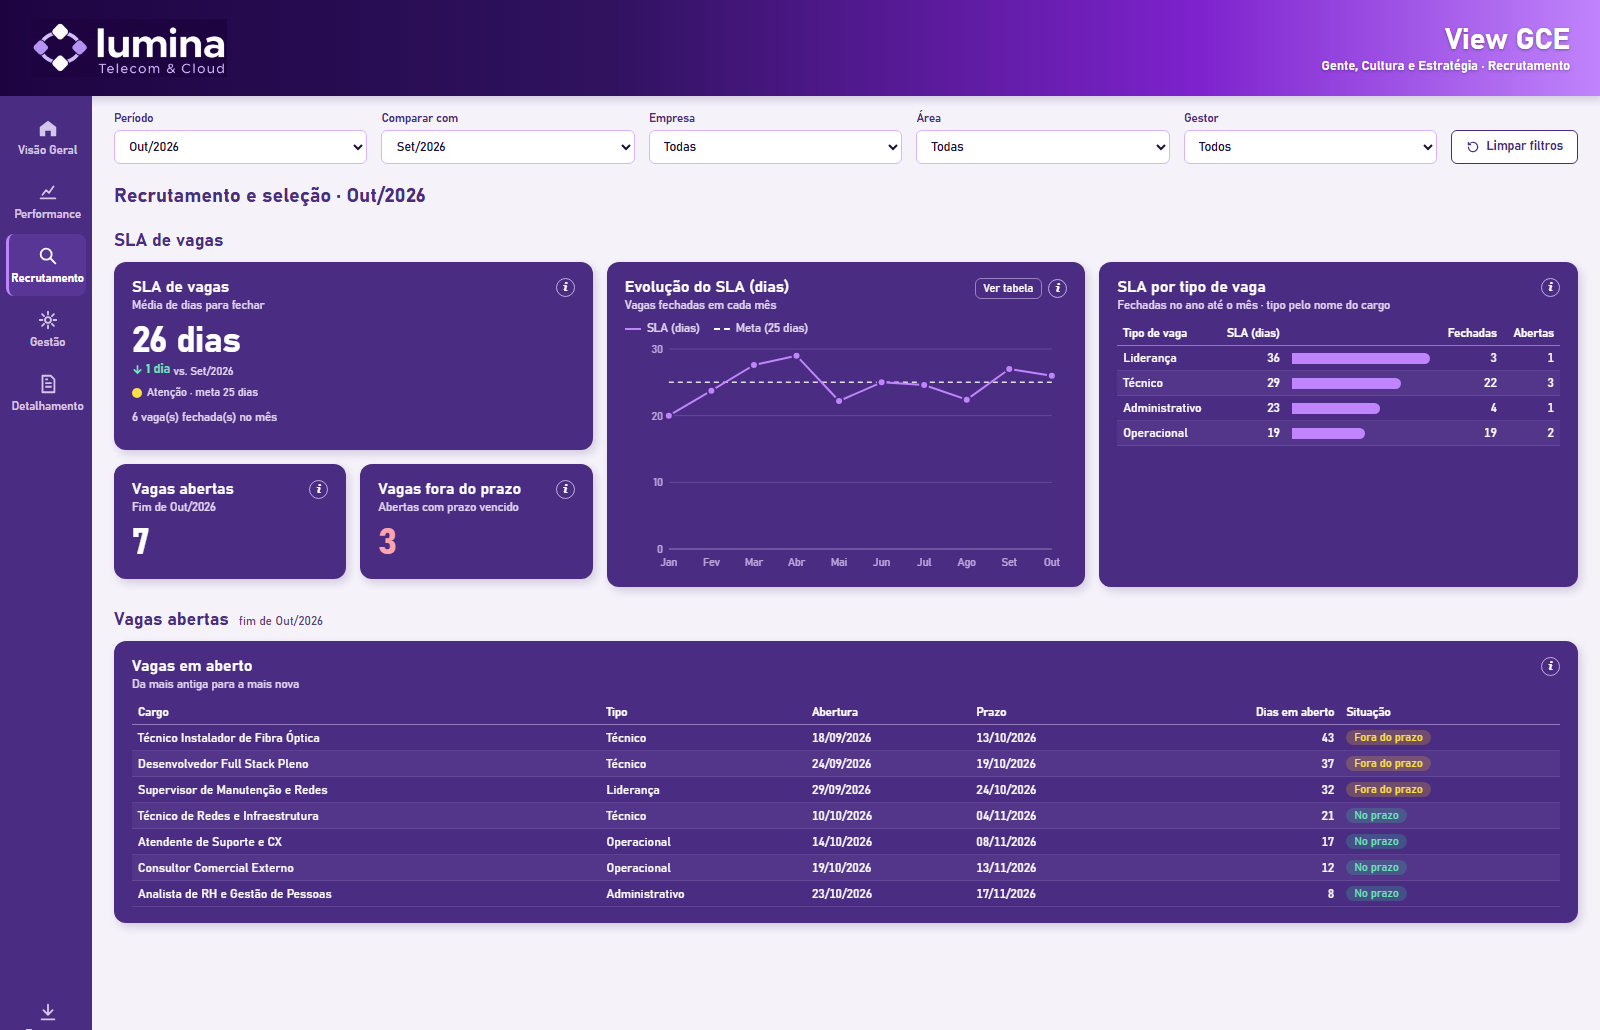

What the dashboard file says about the page in this screenshot:
{"tool":"powerbi","page":{"name":"Recrutamento","canvas":[1600,956],"ordinal":2},"visuals":[{"type":"image","box":[0,0,1606,112],"z":0},{"type":"textbox","box":[1060,22,532,68],"z":1000},{"type":"card","fields":{"Values":["_Medidas.Vagas abertas no fim do mês"]},"box":[475,238,223,72],"z":2000},{"type":"tableEx","title":"Vagas em aberto no fim do mês (da mais antiga para a mais nova)","fields":{"Values":["Vaga.cargo","Vaga.tipo_vaga","Vaga.data_abertura","Vaga.data_prazo","_Medidas.Vaga dias em aberto","_Medidas.Vaga situação (texto)"]},"box":[10,608,1580,332],"z":3000},{"type":"tableEx","title":"SLA por tipo de vaga (no ano)","fields":{"Values":["Vaga.tipo_vaga","_Medidas.SLA vagas no ano (dias)","_Medidas.Vagas fechadas no ano","_Medidas.Vagas abertas no fim do mês"]},"box":[942,238,648,322],"z":4000},{"type":"card","fields":{"Values":["_Medidas.SLA vagas (card)"]},"box":[10,238,223,72],"z":5000},{"type":"lineChart","title":"Evolução do SLA (dias)","fields":{"Category":["Eixo Mes.mes_rotulo"],"Y":["_Medidas.Série SLA vagas (dias)","_Medidas.Série Meta"]},"box":[10,320,920,240],"z":6000},{"type":"card","fields":{"Values":["_Medidas.Vagas fechadas"]},"box":[243,238,223,72],"z":7000},{"type":"card","fields":{"Values":["_Medidas.Vagas fora do prazo"]},"box":[708,238,223,72],"z":8000},{"type":"textbox","box":[10,204.4,138.9,41.1],"z":10000},{"type":"textbox","box":[10,574,1580,30],"z":11000},{"type":"slicer","fields":{"Values":["Comparar com.Comparar com"]},"box":[330,113,310,81],"z":12000},{"type":"slicer","fields":{"Values":["Colaborador.empresa"]},"box":[647,113,310,81],"z":13000},{"type":"slicer","fields":{"Values":["Colaborador.gestor"]},"box":[1281,113,310,81],"z":14000},{"type":"slicer","fields":{"Values":["Colaborador.area"]},"box":[964,113,310,81],"z":15000},{"type":"slicer","fields":{"Values":["Calendario.mes_rotulo"]},"box":[13,113,310,81],"z":16000},{"type":"actionButton","box":[1560,246,22,22],"z":17000},{"type":"actionButton","box":[900,328,22,22],"z":18000},{"type":"actionButton","box":[1560,616,22,22],"z":19000}]}

Visuals, with their boxes on the page's 1600x956 design canvas (x1, y1, x2, y2). These are canvas units, not pixel positions in the 1600x1030 screenshot, which may show the page scaled, cropped or inside an application window:
image: x1=0 y1=0 x2=1606 y2=112
textbox: x1=1060 y1=22 x2=1592 y2=90
card - _Medidas.Vagas abertas no fim do mês: x1=475 y1=238 x2=698 y2=310
"Vagas em aberto no fim do mês (da mais antiga para a mais nova)" tableEx: x1=10 y1=608 x2=1590 y2=940
"SLA por tipo de vaga (no ano)" tableEx: x1=942 y1=238 x2=1590 y2=560
card - _Medidas.SLA vagas (card): x1=10 y1=238 x2=233 y2=310
"Evolução do SLA (dias)" lineChart: x1=10 y1=320 x2=930 y2=560
card - _Medidas.Vagas fechadas: x1=243 y1=238 x2=466 y2=310
card - _Medidas.Vagas fora do prazo: x1=708 y1=238 x2=931 y2=310
textbox: x1=10 y1=204 x2=149 y2=246
textbox: x1=10 y1=574 x2=1590 y2=604
slicer - Comparar com.Comparar com: x1=330 y1=113 x2=640 y2=194
slicer - Colaborador.empresa: x1=647 y1=113 x2=957 y2=194
slicer - Colaborador.gestor: x1=1281 y1=113 x2=1591 y2=194
slicer - Colaborador.area: x1=964 y1=113 x2=1274 y2=194
slicer - Calendario.mes_rotulo: x1=13 y1=113 x2=323 y2=194
actionButton: x1=1560 y1=246 x2=1582 y2=268
actionButton: x1=900 y1=328 x2=922 y2=350
actionButton: x1=1560 y1=616 x2=1582 y2=638
